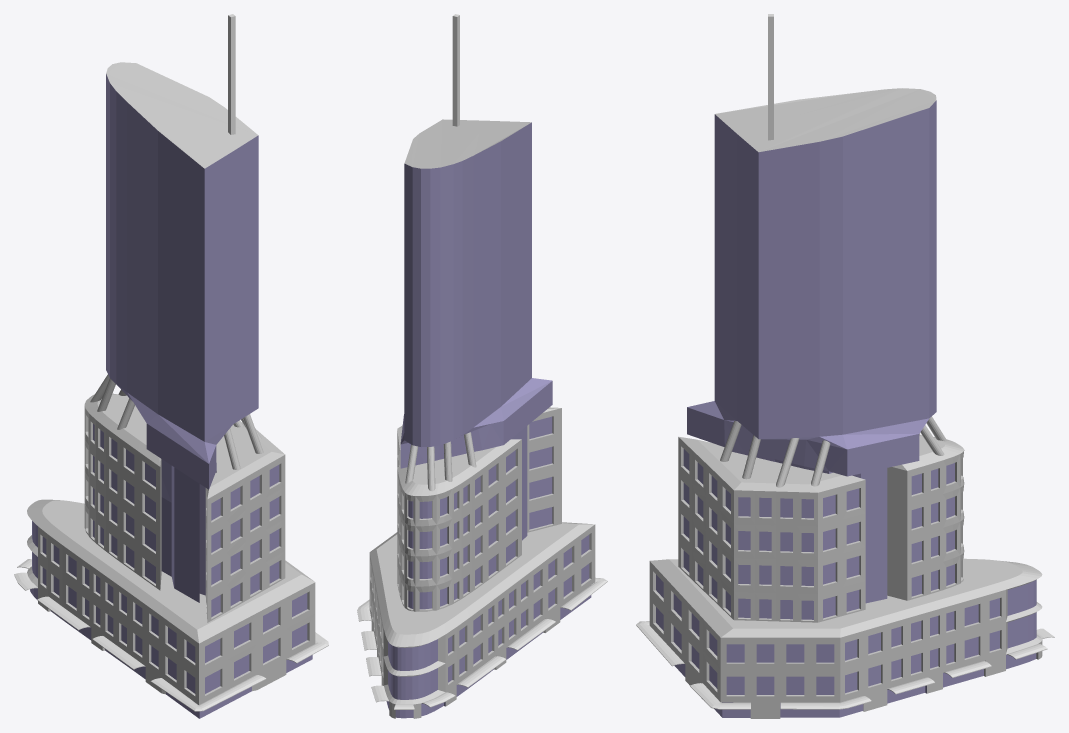
Rendered from 150WaterAve.fbx.
3 renders of one model, left to right at view 1: azimuth 30°, elevation 25°; view 2: azimuth 150°, elevation 25°; view 3: azimuth 270°, elevation 25°, orthographic. The views are drawn at different scales.
Visible parts, largest first — view 1: Top Section, Bottom Section, Awning, Supports, Antenna; view 2: Top Section, Bottom Section, Awning, Supports, Antenna; view 3: Top Section, Bottom Section, Awning, Supports, Antenna.
Boxes of the visible parts, <box> form: Top Section: <box>106,62,258,602</box>; Bottom Section: <box>27,393,315,718</box>; Awning: <box>14,559,328,711</box>; Supports: <box>90,374,263,469</box>; Antenna: <box>228,14,235,134</box>; Top Section: <box>400,119,552,540</box>; Bottom Section: <box>369,407,595,718</box>; Awning: <box>357,577,607,709</box>; Supports: <box>405,432,476,491</box>; Antenna: <box>452,14,459,126</box>; Top Section: <box>687,88,936,603</box>; Bottom Section: <box>649,435,1042,718</box>; Awning: <box>636,621,1054,709</box>; Supports: <box>720,416,946,487</box>; Antenna: <box>768,14,773,140</box>.
Size of the model in its own units: 71.24 by 249 by 140.
